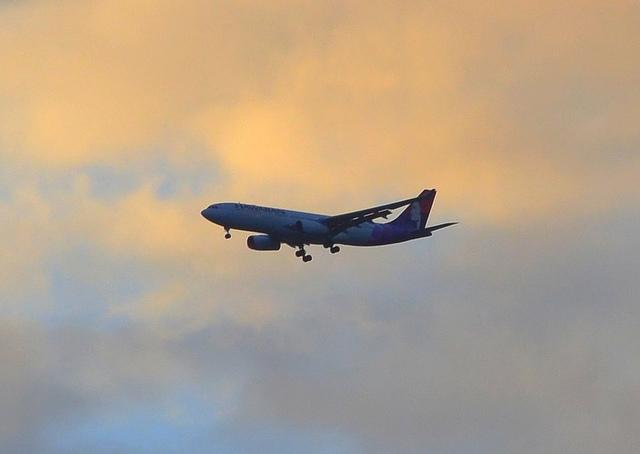airplane: (199, 188, 461, 262)
